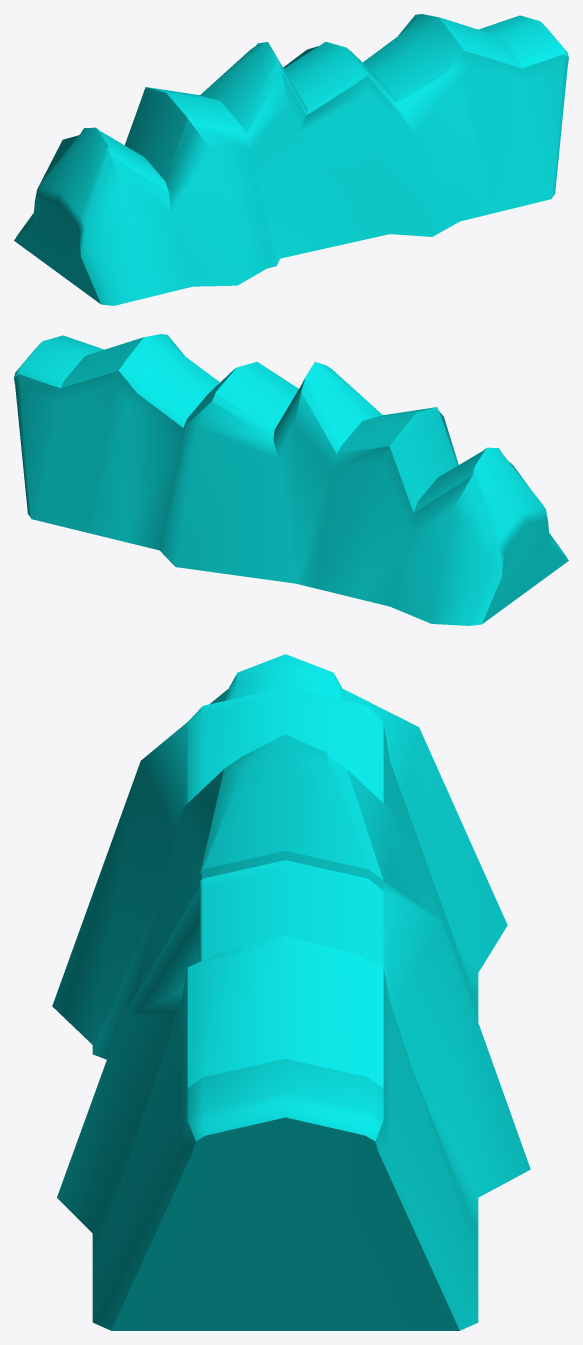
File: icicle.fbx
3 views of the same model, one above another, from view 1: azimuth 30°, elevation 25°; view 2: azimuth 150°, elevation 25°; view 3: azimuth 270°, elevation 25° (orthographic). The views are drawn at different scales.
Visible parts, largest first — view 1: polySurface3; view 2: polySurface3; view 3: polySurface3.
Boxes of the visible parts, left/top/right/bottom form: polySurface3: left=14, top=14, right=568, bottom=305; polySurface3: left=14, top=334, right=568, bottom=625; polySurface3: left=52, top=654, right=530, bottom=1330.
Bounding box in the file's own units: 2.94 × 1.03 × 1.24.
